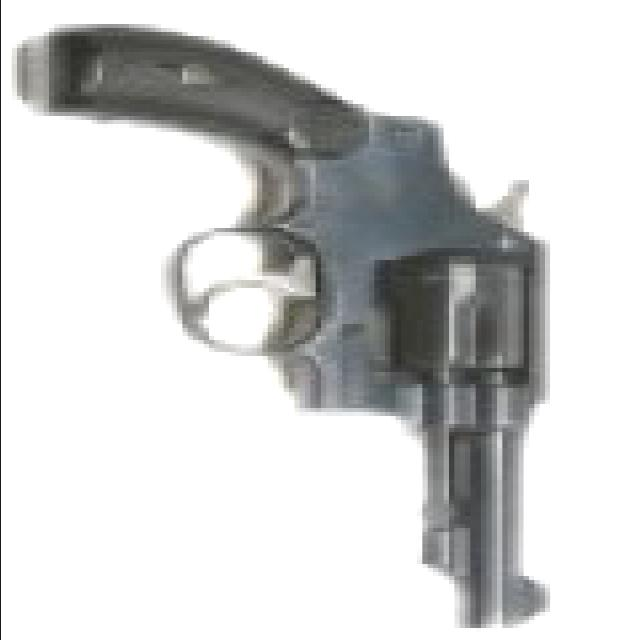handgun: (37, 24, 571, 620)
